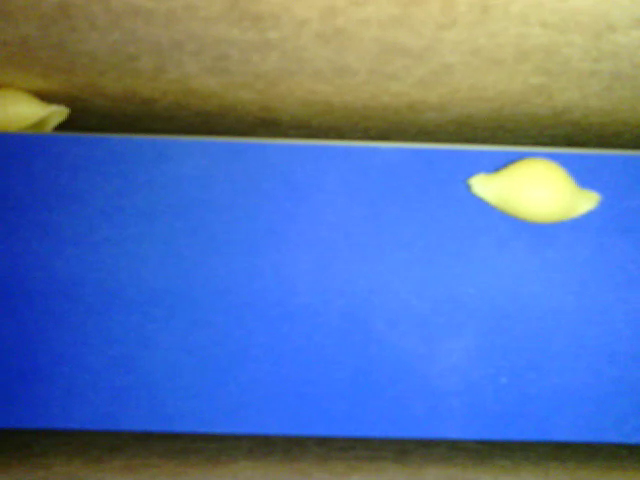shell: (458, 145, 603, 229), (4, 82, 80, 136)
